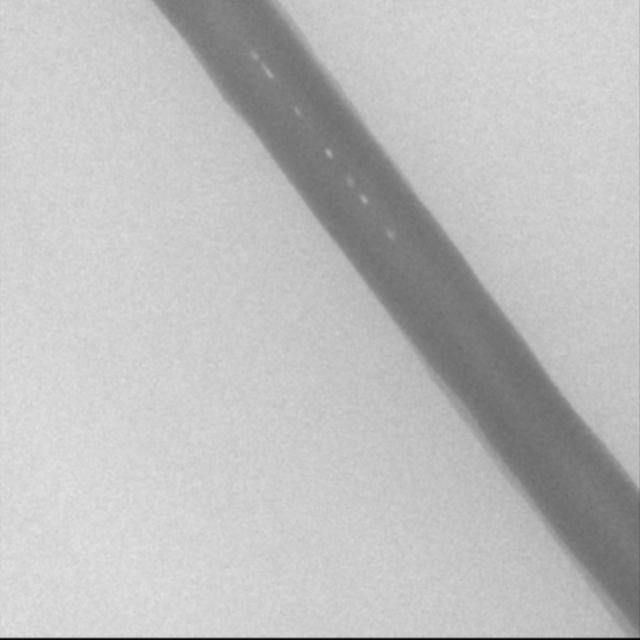air hole: (264, 64, 275, 83), (384, 225, 395, 242), (359, 192, 368, 206), (324, 146, 333, 160), (251, 50, 260, 64), (292, 104, 301, 116)
